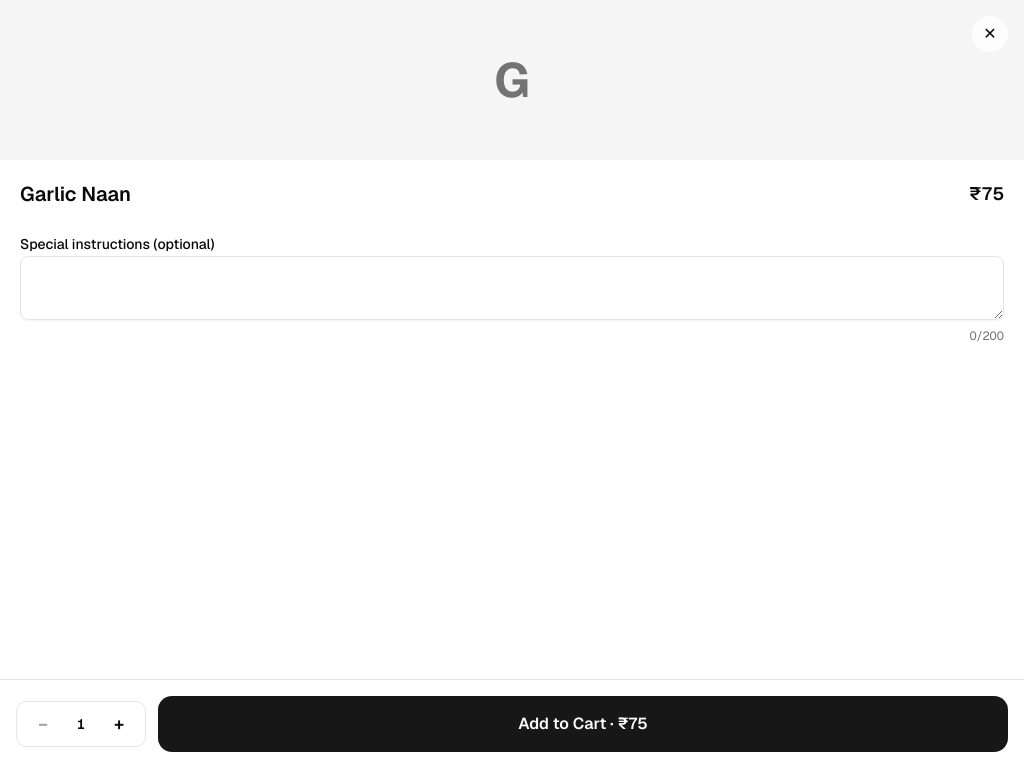
ItemDetailView › shows an inline error naming the cause when the cart rejects the add, without navigating away
The width and height of the screenshot is (1024, 768).
Step 1. Click the button with test id "qr-add-to-cart" → (583, 724), box [158,696,1008,752]
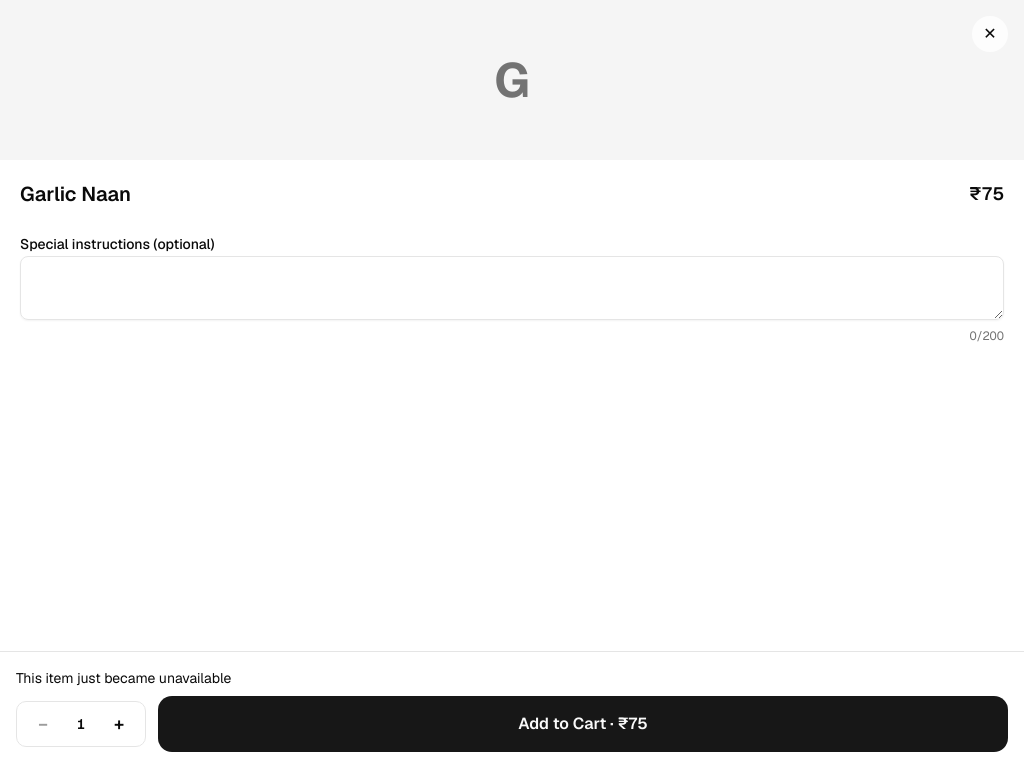
Expected: the message with test id "qr-item-detail-add-error" reads "This item just became unavailable", [16,669,232,687]
